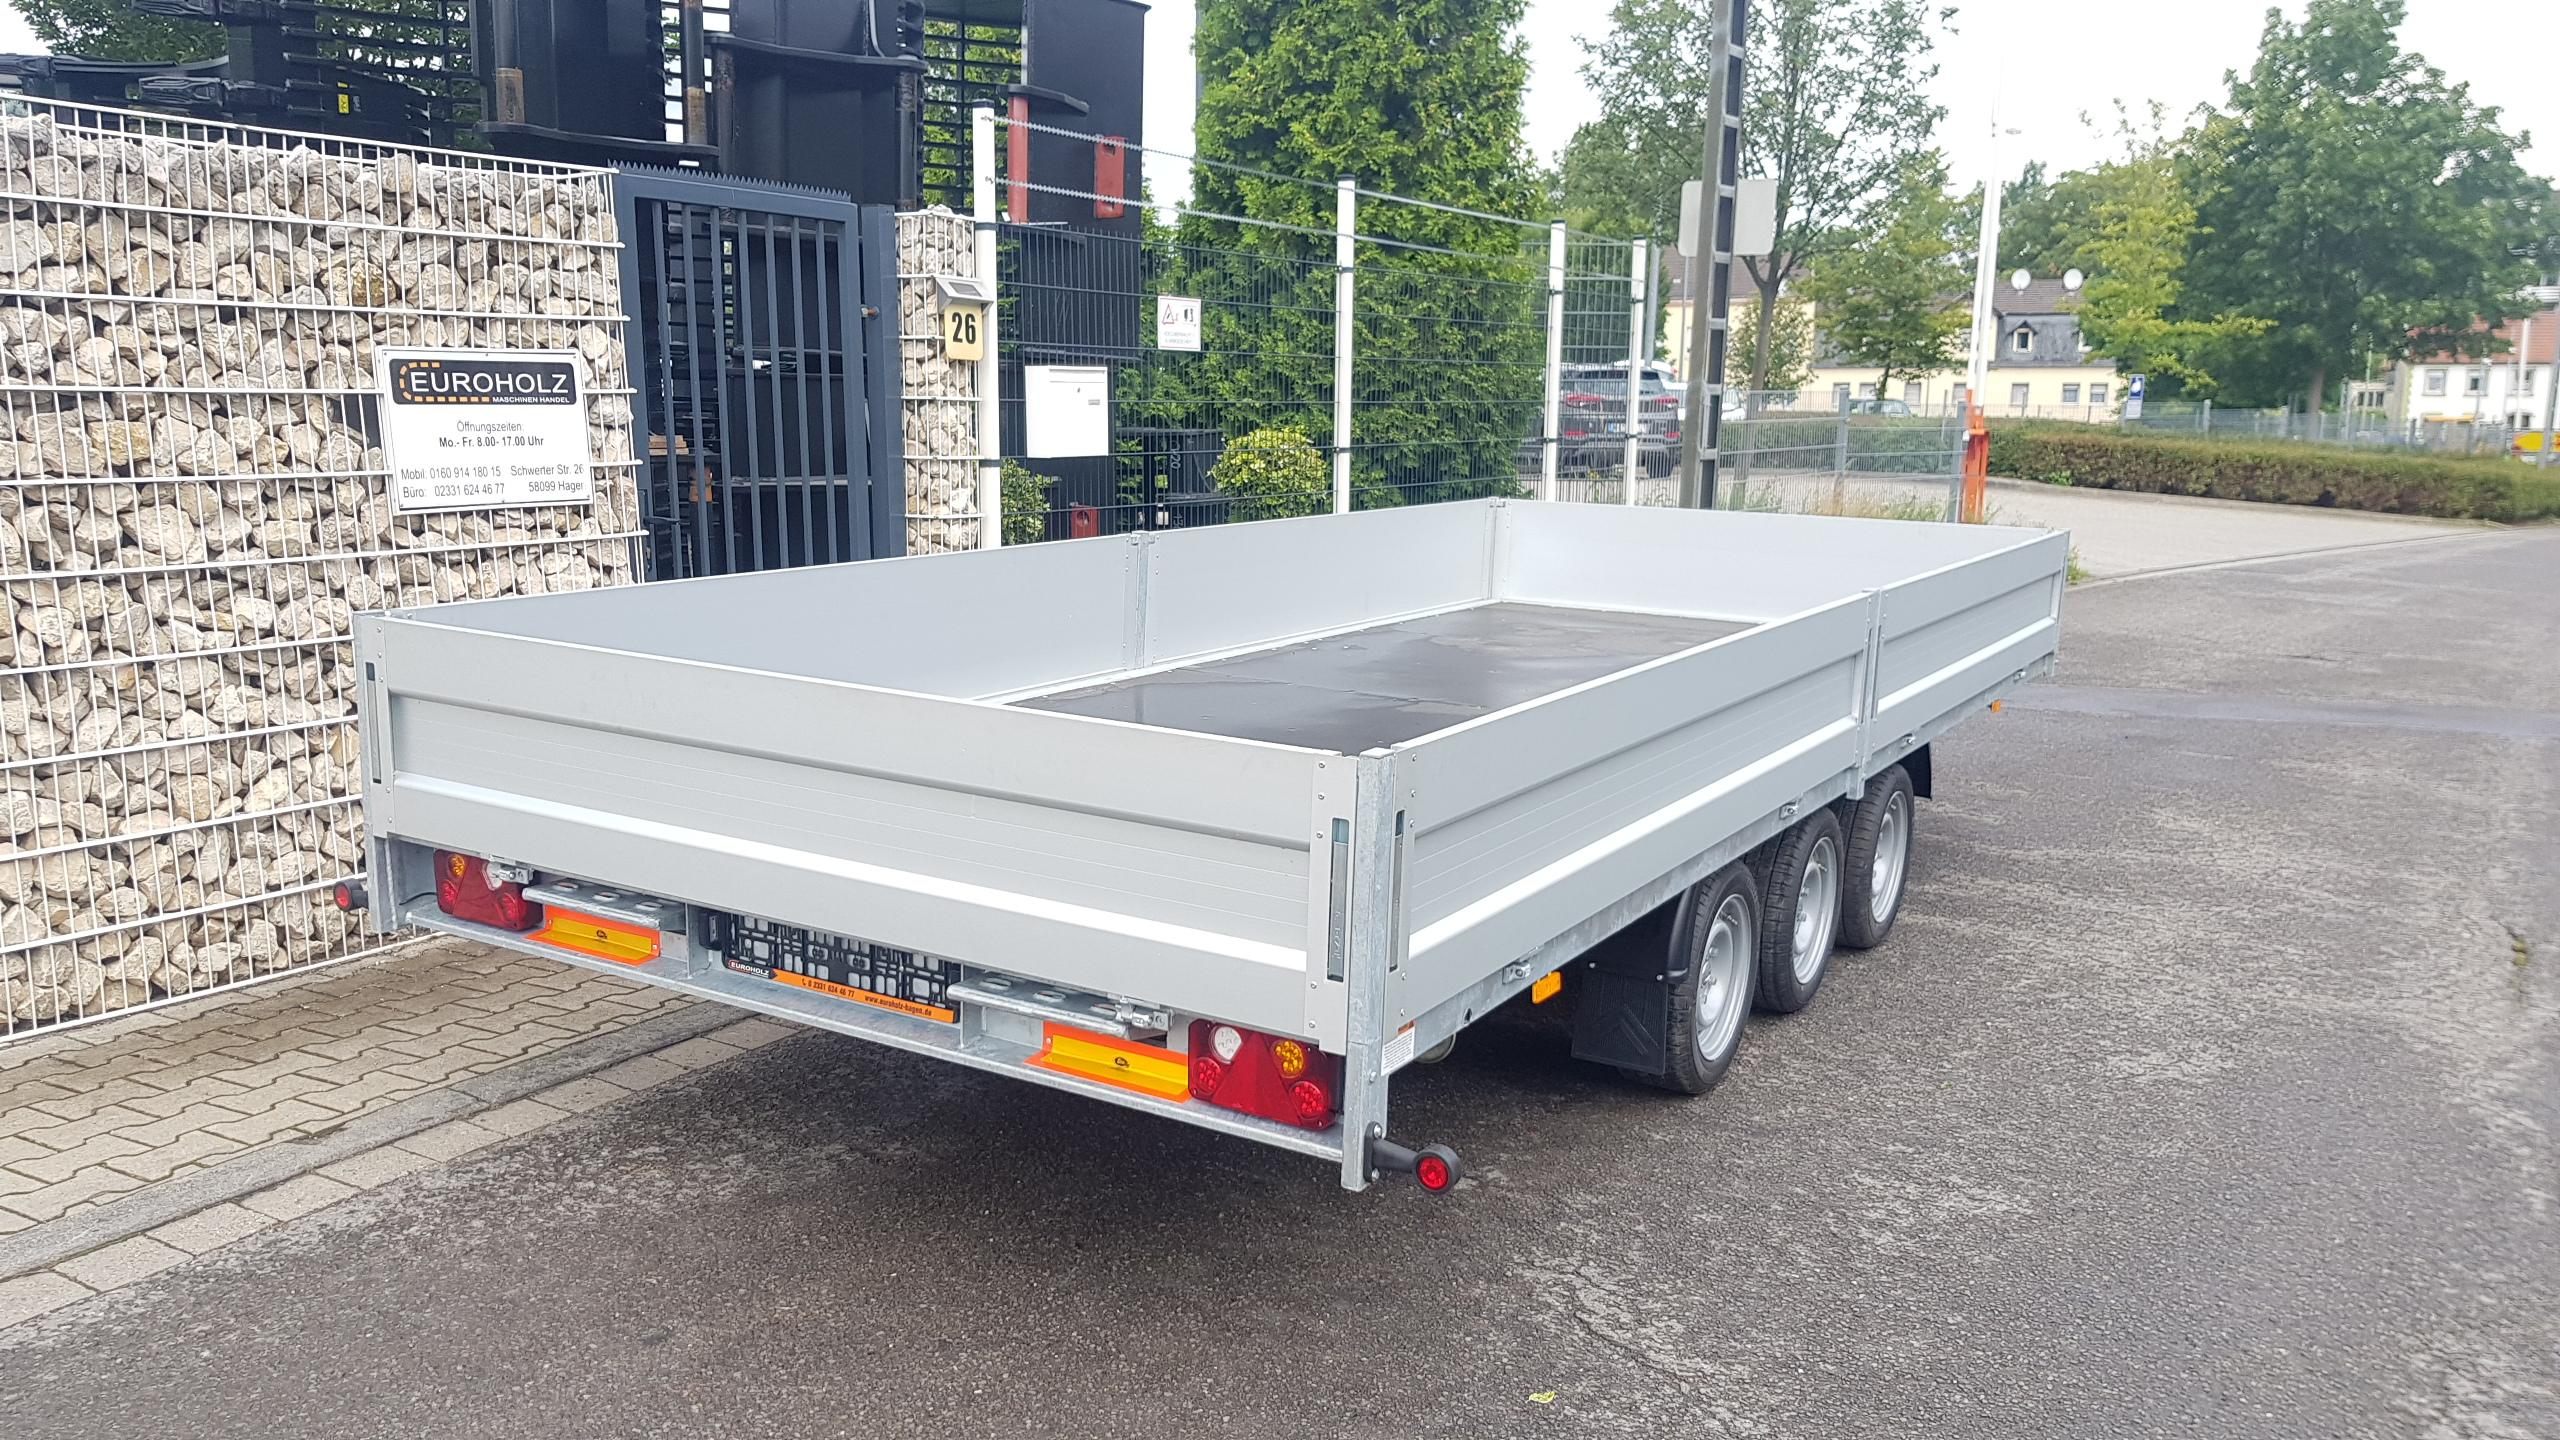trailer: (353, 491, 2069, 1173)
